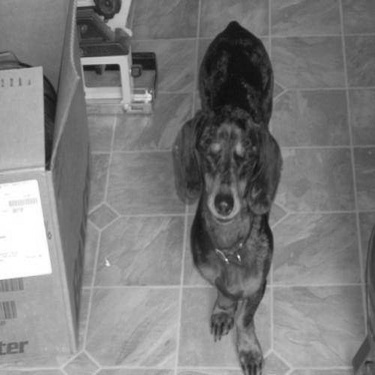dog: (170, 12, 287, 371)
